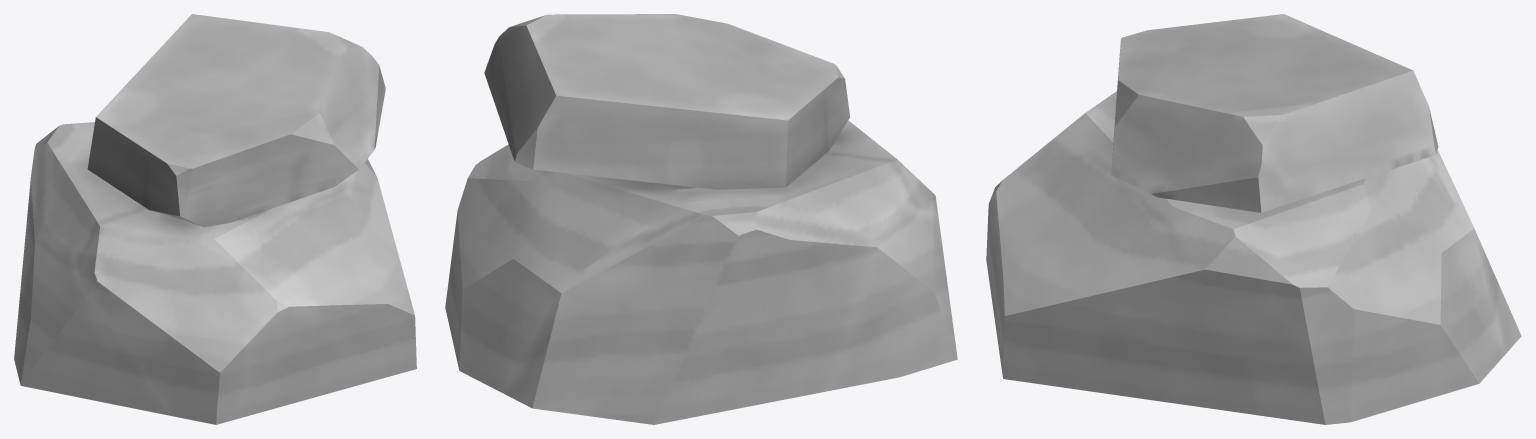
The model's file is sculpted_stone_07.glb.
3 renders of one model, left to right at view 1: azimuth 30°, elevation 25°; view 2: azimuth 150°, elevation 25°; view 3: azimuth 270°, elevation 25°, orthographic. The views are drawn at different scales.
Parts seen in each view (by area): view 1: sculpted_stone_07; view 2: sculpted_stone_07; view 3: sculpted_stone_07.
Part boxes in pixels (left/top/right/bottom): sculpted_stone_07: left=14, top=14, right=416, bottom=424; sculpted_stone_07: left=445, top=14, right=957, bottom=424; sculpted_stone_07: left=986, top=14, right=1521, bottom=424.
Bounding box in the file's own units: 0.3949 × 0.2305 × 0.3957.
Materials: 1 (1 with a texture image).
